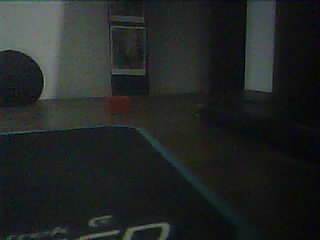lego: (103, 95, 131, 115)
